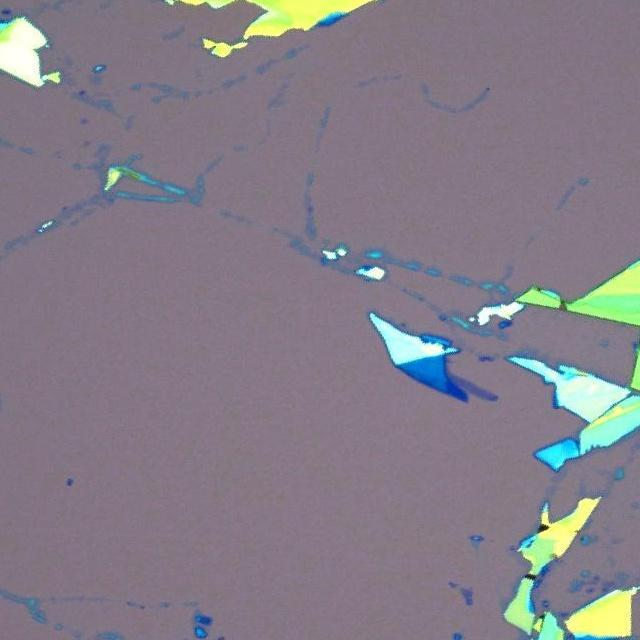monolayer-eWW4: (448, 372, 493, 401)
